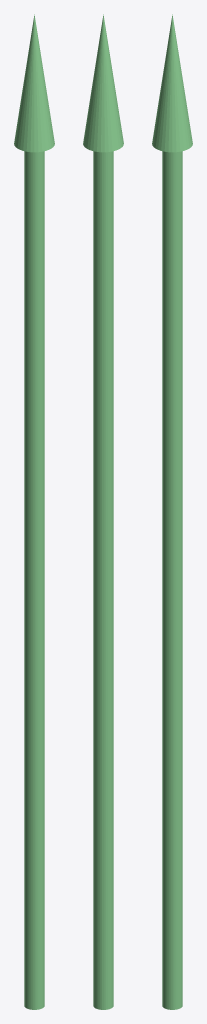
Rendered from green_arrow.dae.
3 renders of one model, left to right at view 1: azimuth 90°, elevation 25°; view 2: azimuth 150°, elevation 25°; view 3: azimuth 270°, elevation 25°, orthographic.
Parts seen in each view (by area): view 1: Cylinder, Cone; view 2: Cylinder, Cone; view 3: Cylinder, Cone.
Boxes of the visible parts, x1,y1,x2,y2 form: Cylinder: (24,151,44,1009); Cone: (14,14,54,152); Cylinder: (93,151,113,1009); Cone: (83,14,123,152); Cylinder: (162,151,182,1009); Cone: (152,14,192,152).
Size of the model in its own units: 0.04 by 0.04 by 1.07.
